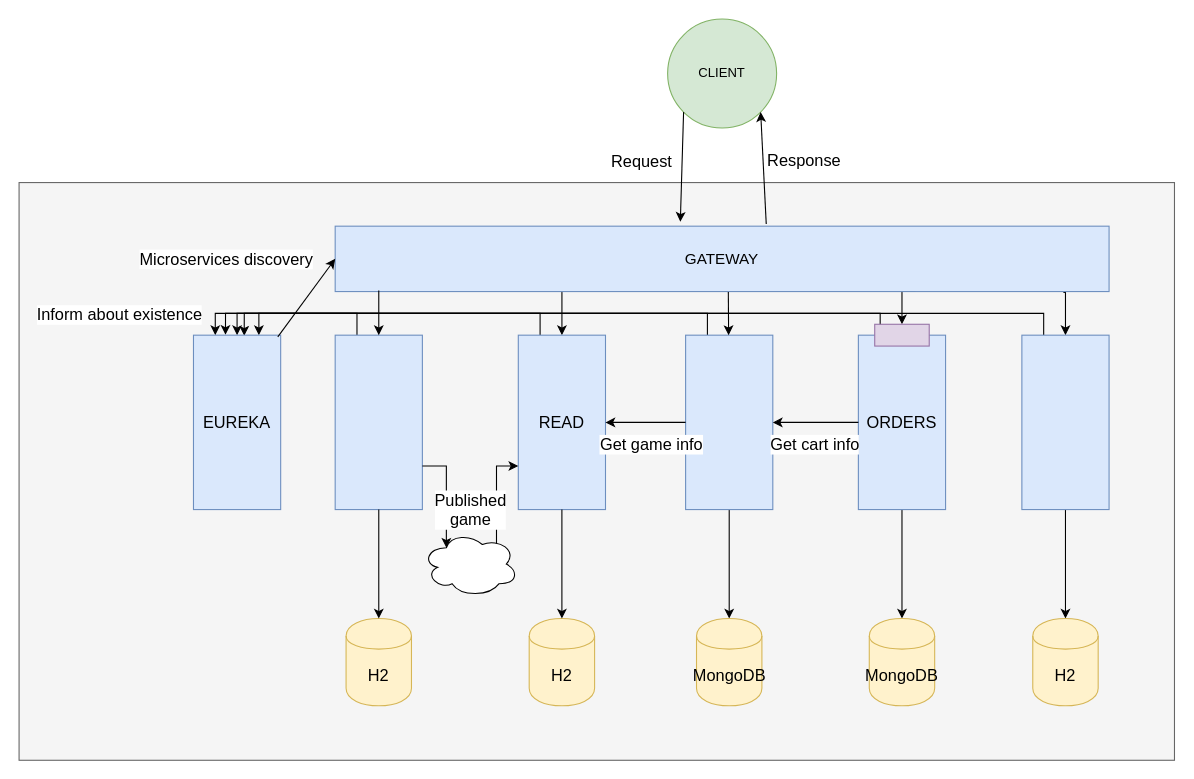
Some shapes in this 1194 by 779 pixel diagram are drawn without their labels. The shapes that lost their labels are listed below. From the top down, each one's centre as x and y in pixels, then its label:
the point at 901,334: Auth
the point at 378,422: EDIT
the point at 729,422: CARTS
the point at 1065,422: USERS
the point at 469,563: RabbitMQ
